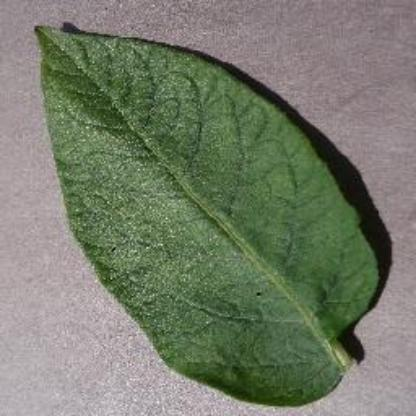Healthy-plant: (28, 18, 384, 413)
